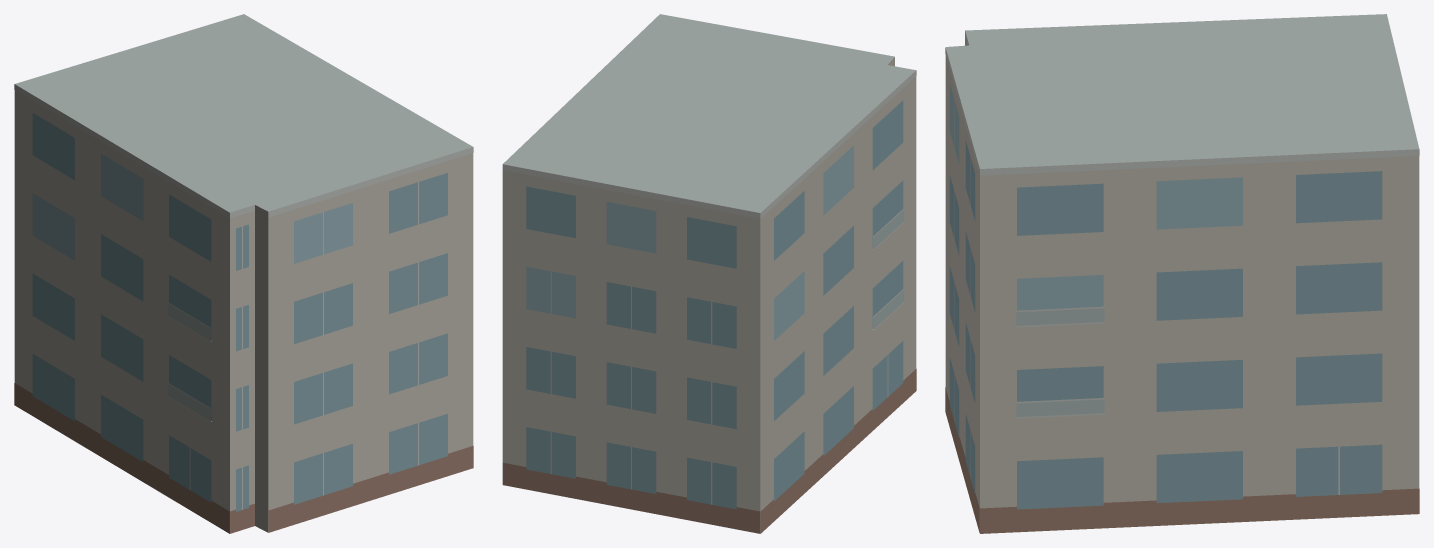
Rendered from survey-upis-32626113.glb.
3 views of the same model, side by side, from view 1: azimuth 30°, elevation 25°; view 2: azimuth 150°, elevation 25°; view 3: azimuth 270°, elevation 25° (orthographic). The views are drawn at different scales.
Visible parts, largest first — view 1: survey-upis-32626113.tmp; view 2: survey-upis-32626113.tmp; view 3: survey-upis-32626113.tmp.
Part boxes in pixels (x1,y1,x2,y2): survey-upis-32626113.tmp: (14,14,473,533); survey-upis-32626113.tmp: (502,14,916,533); survey-upis-32626113.tmp: (945,14,1419,533).
Bounding box in the file's own units: 12.04 × 13.2 × 15.55.
